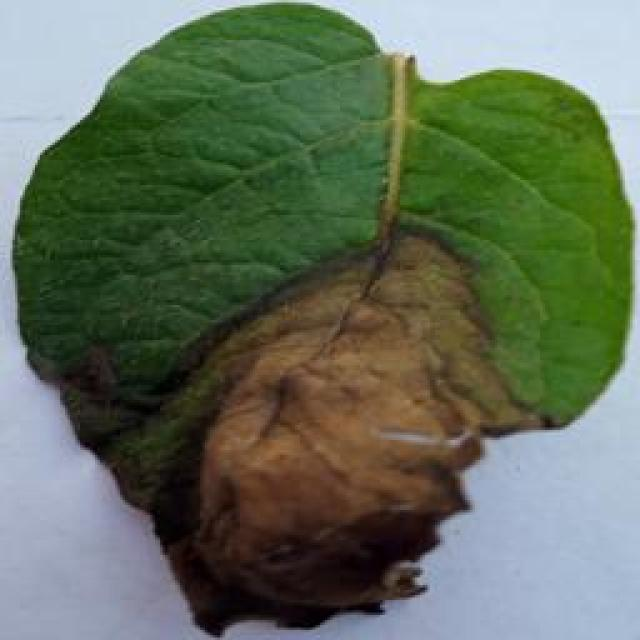Potato_Late_Blight: (15, 8, 626, 636)
